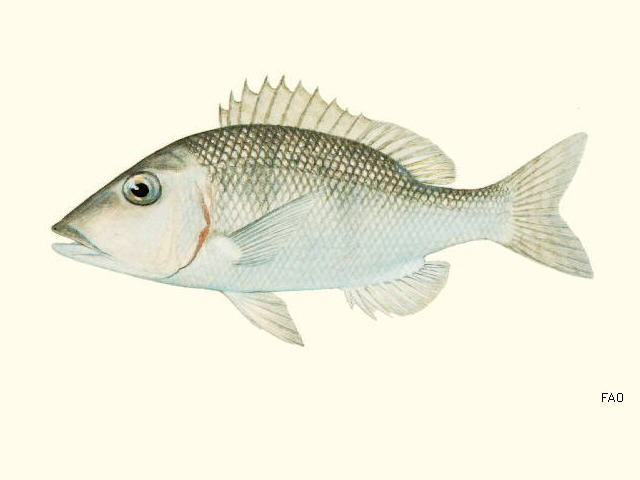fish: (50, 74, 597, 346)
